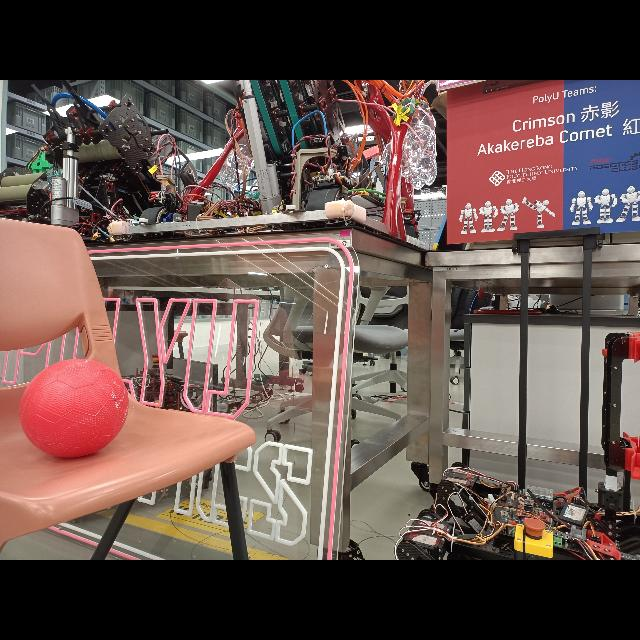R: (20, 357, 130, 459)
